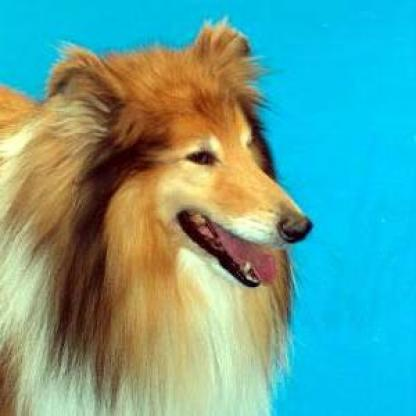collie: (0, 21, 312, 413)
